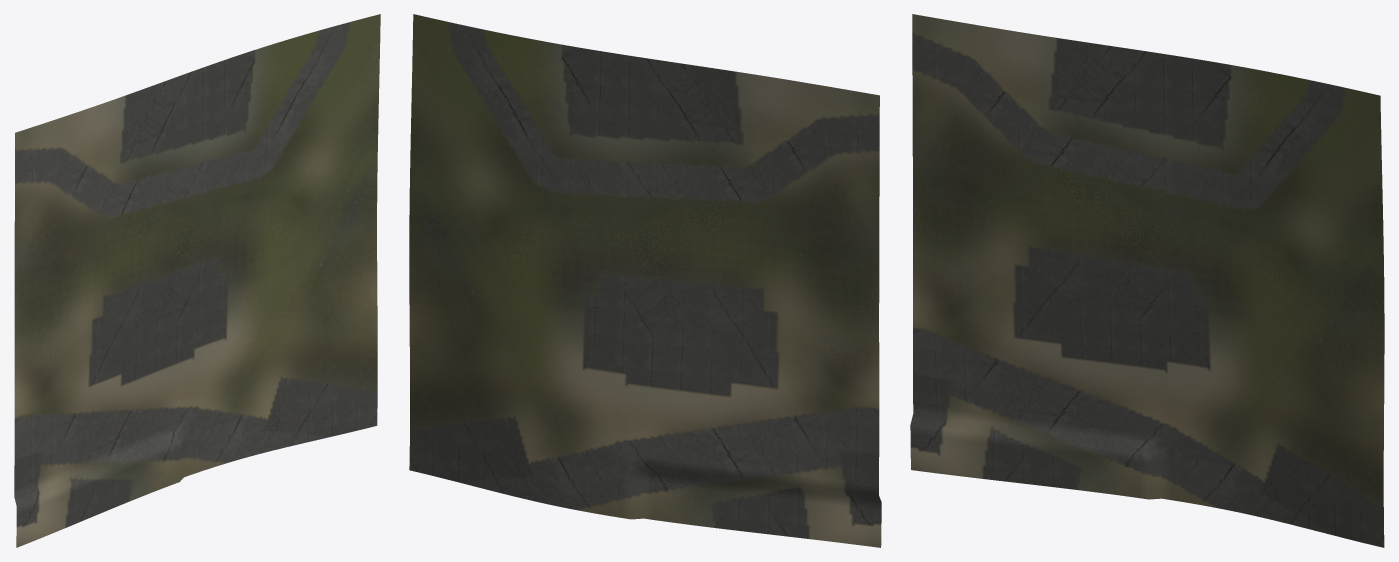
File: ground_core_06_06.obj
3 renders of one model, left to right at view 1: azimuth 30°, elevation 25°; view 2: azimuth 150°, elevation 25°; view 3: azimuth 330°, elevation 25°, orthographic. The views are drawn at different scales.
Parts seen in each view (by area): view 1: ground_core_06_06; view 2: ground_core_06_06; view 3: ground_core_06_06.
Boxes of the visible parts, <box> form: ground_core_06_06: <box>14,14,380,547</box>; ground_core_06_06: <box>409,14,881,547</box>; ground_core_06_06: <box>910,14,1384,547</box>.
Bounding box in the file's own units: 50 × 50 × 7.91.
Materials: 1 (1 with a texture image).
